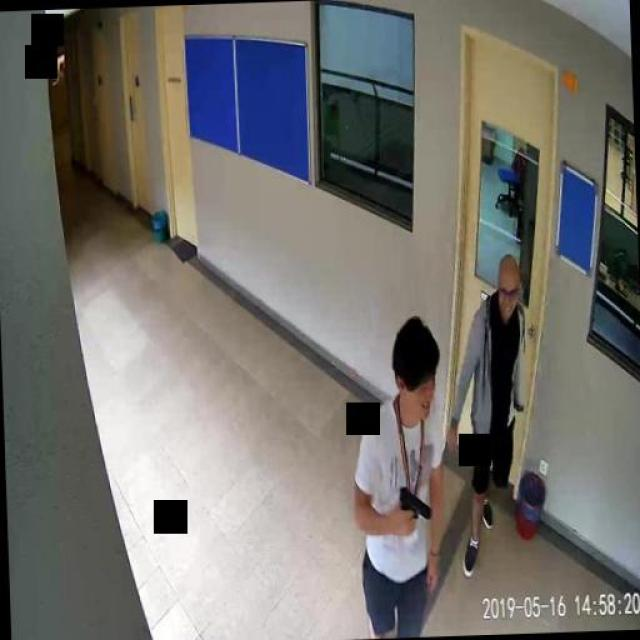gun: (398, 484, 428, 536)
